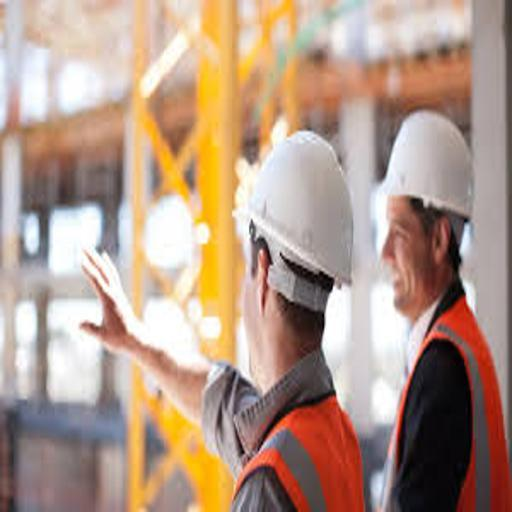Hard_hat: (234, 122, 365, 301), (372, 98, 493, 227)
Humans: (52, 307, 372, 511), (374, 230, 511, 512)
Vest: (388, 297, 512, 512), (225, 390, 379, 512)
